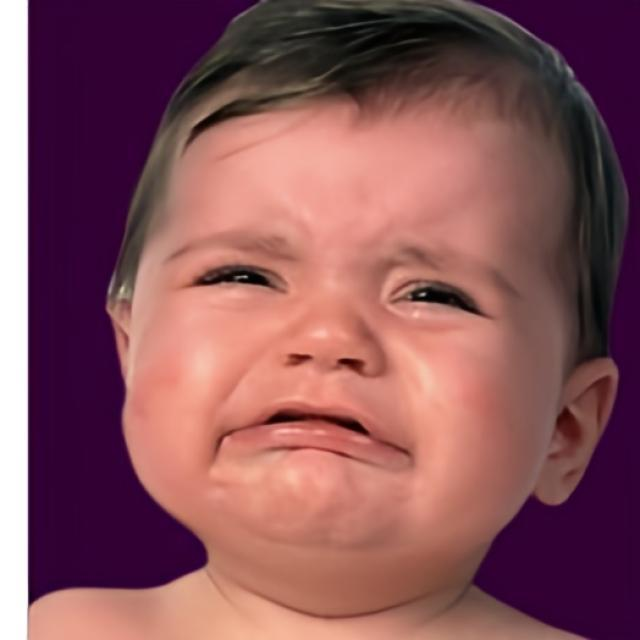sad: (132, 86, 558, 556)
